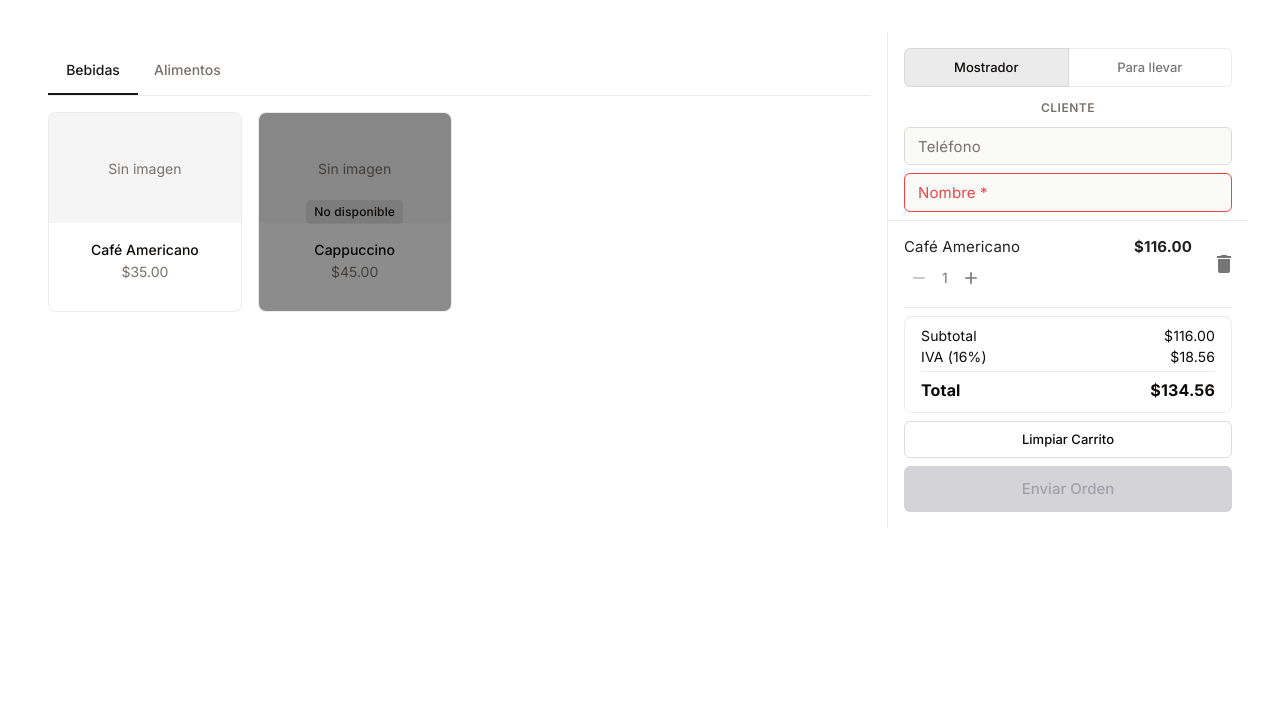
CashierPos — validación de cliente › Enviar Orden habilitado en COUNTER con nombre
Type "Pedro" into the field named "nombre del cliente" at (1068, 193), box 904,173 -> 1232,212
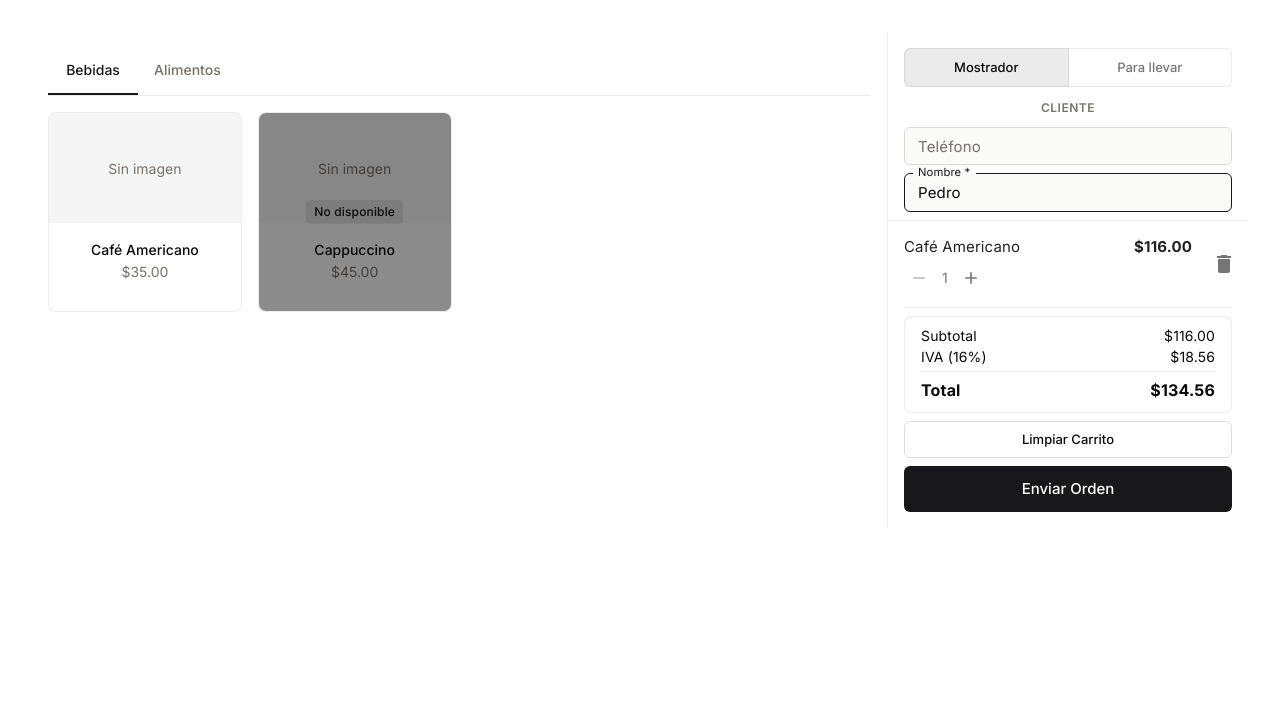
Expected: the button "Enviar Orden" is enabled, 904,466 -> 1232,512
